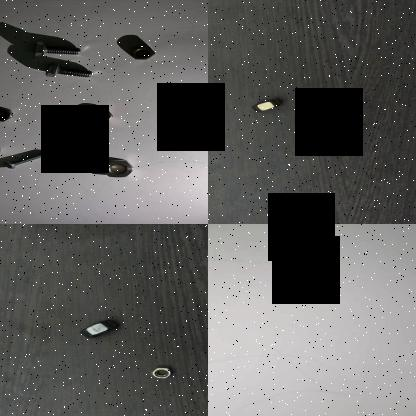Bolts: (41, 56, 96, 86), (3, 146, 58, 170), (28, 38, 87, 58)
NUTS: (92, 157, 140, 181), (76, 316, 119, 340), (249, 96, 290, 116), (86, 102, 116, 124), (126, 44, 162, 60), (150, 364, 178, 380), (0, 103, 14, 121)
